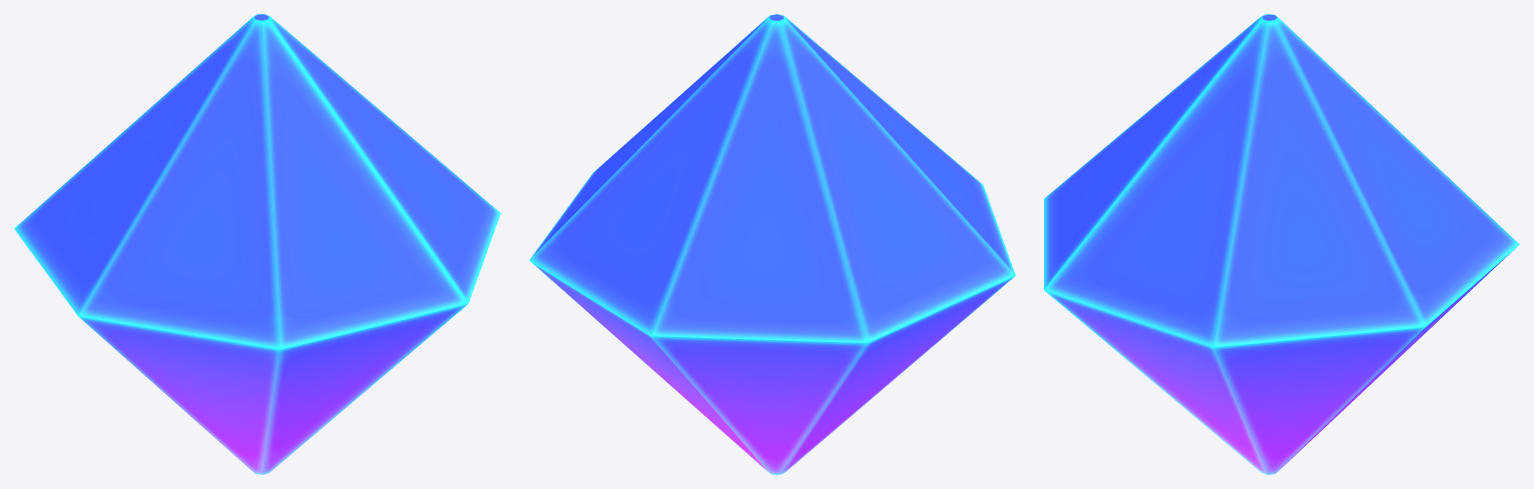
Rendered from Stone5.fbx.
The picture shows the model from 3 angles, left to right: view 1: azimuth 30°, elevation 25°; view 2: azimuth 150°, elevation 25°; view 3: azimuth 270°, elevation 25°; orthographic projection.
Parts seen in each view (by area): view 1: Stone5; view 2: Stone5; view 3: Stone5.
Boxes of the visible parts, box(x1,y1,x2,y2) form: Stone5: box(14, 14, 500, 474); Stone5: box(529, 14, 1015, 474); Stone5: box(1044, 14, 1519, 474).
Size of the model in its own units: 49.3 by 50.57 by 48.07.
